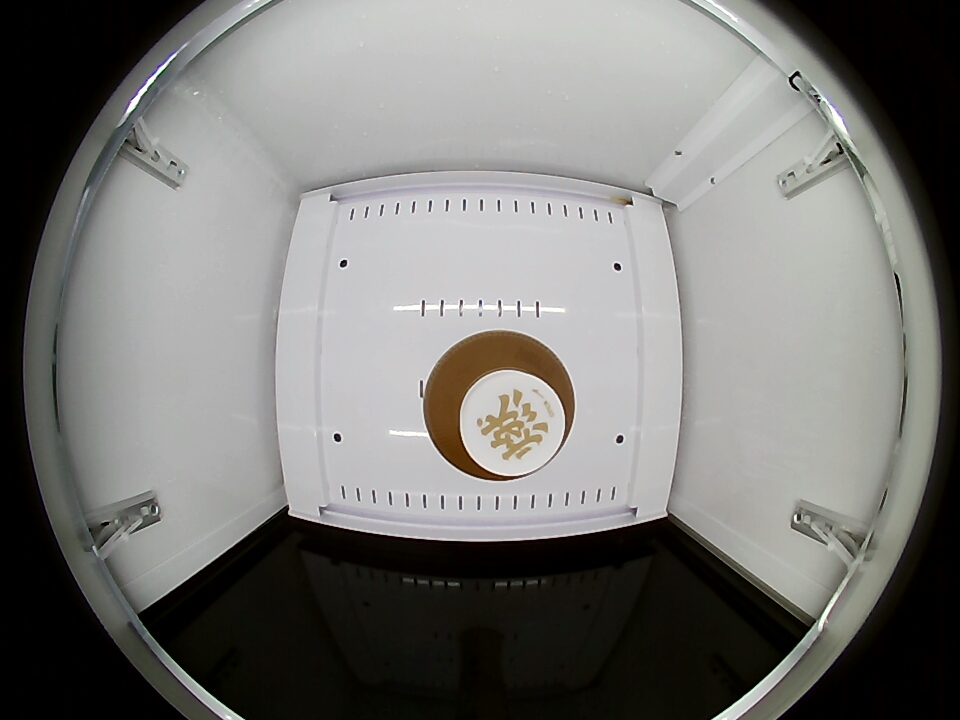rancha-2: (423, 330, 575, 481)
